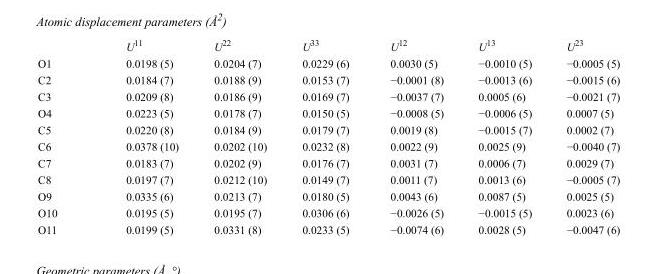table: (37, 37, 619, 235)
table column: (90, 37, 195, 235), (369, 37, 460, 235), (195, 37, 283, 235), (460, 37, 548, 235), (283, 37, 369, 235), (548, 37, 619, 235), (37, 37, 90, 235)
table column header: (37, 37, 619, 54)
table row: (37, 37, 619, 54), (37, 54, 619, 71), (37, 87, 619, 104), (37, 104, 619, 121), (37, 137, 619, 154), (37, 170, 619, 187), (37, 187, 619, 204), (37, 71, 619, 87), (37, 121, 619, 137), (37, 154, 619, 170), (37, 204, 619, 220), (37, 220, 619, 235)
